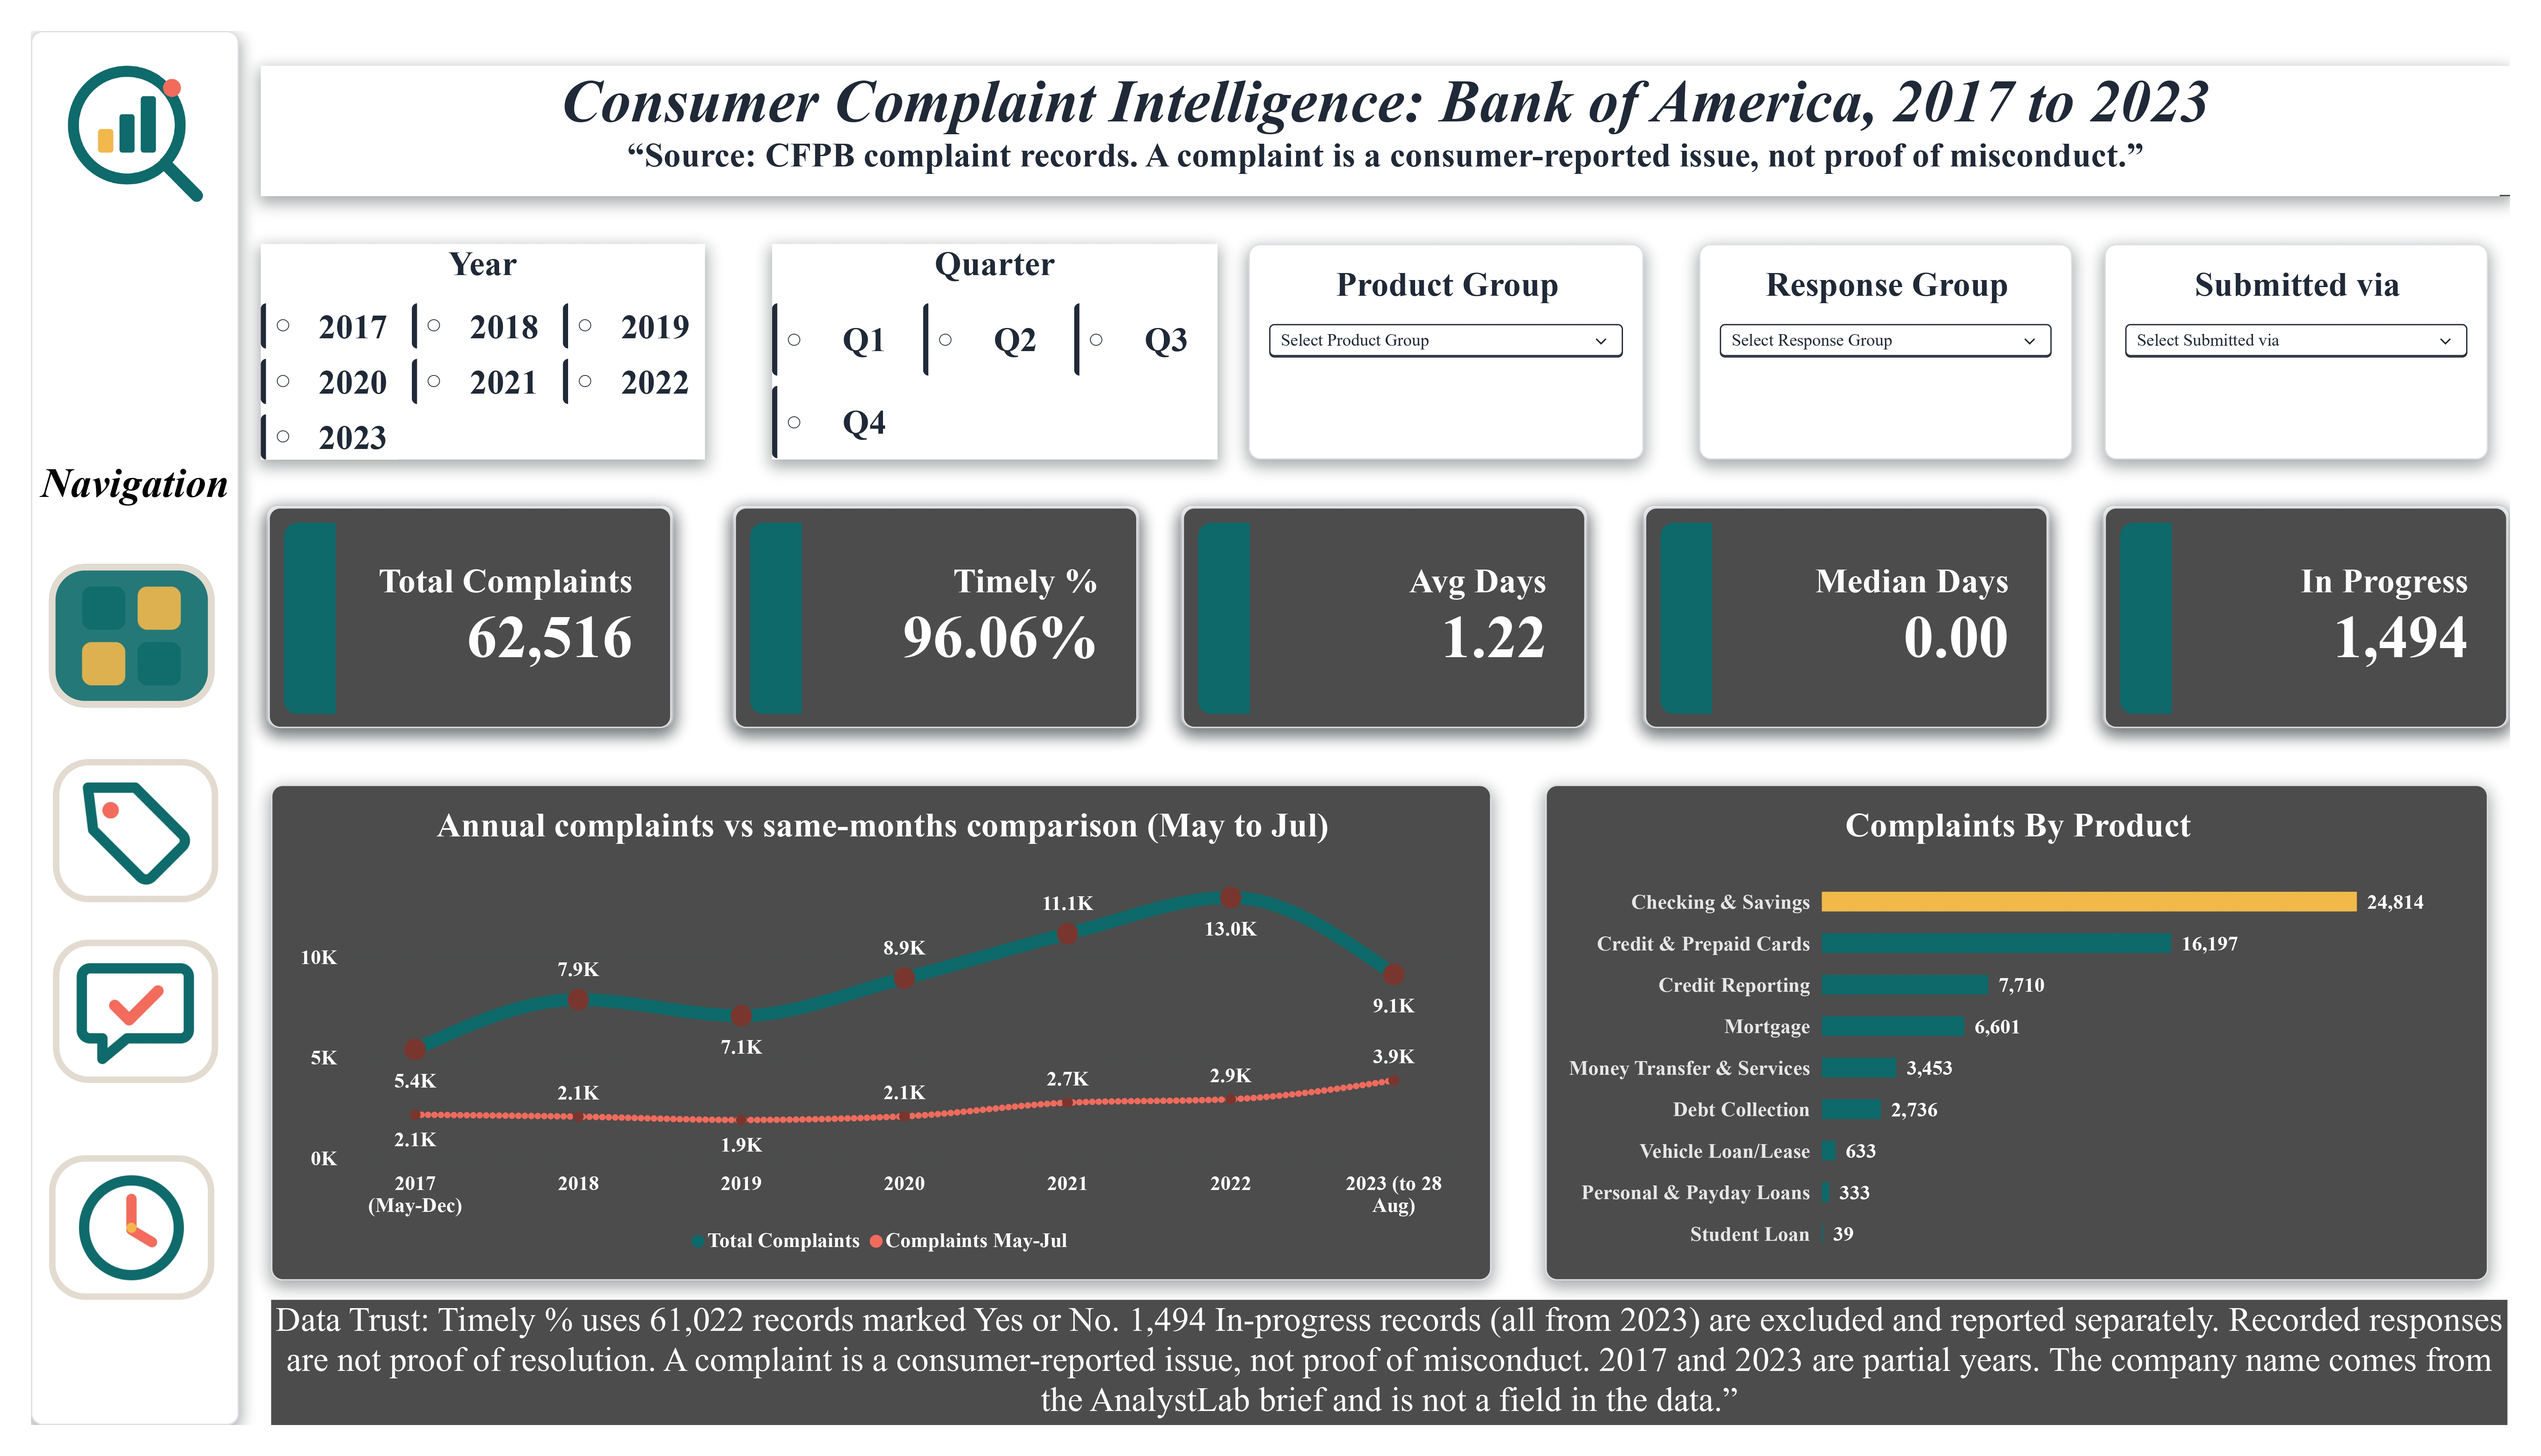

This screenshot's page, from the dashboard's own definition file:
{"tool":"powerbi","page":{"name":"Executive Compaint Overview","canvas":[1920,1080],"ordinal":0},"visuals":[{"type":"group","id":"g1","title":"Group 2","box":[0,0,161,1079.7],"z":0},{"type":"shape","box":[0,0,161,1079.7],"z":0,"group":"g1"},{"type":"shape","box":[181.7,367.5,316.4,173.5],"z":0,"group":"g2"},{"type":"shape","box":[543,367.5,316.4,173.5],"z":0,"group":"g6"},{"type":"shape","box":[889.8,367.5,316.4,173.5],"z":0,"group":"g3"},{"type":"shape","box":[1247.6,367.5,316.4,173.5],"z":0,"group":"g4"},{"type":"shape","box":[1604.1,367.5,316.4,173.5],"z":0,"group":"g5"},{"type":"image","box":[0,0,161,150.7],"z":1000,"group":"g1"},{"type":"textbox","title":"Consumer Complaint Intelligence: Bank of America, 2017 to 2023","box":[177.5,26.8,1742.5,101.2],"z":1000},{"type":"advancedSlicerVisual","fields":{"Values":["DimDate.Year"]},"box":[177.5,165.2,344.8,167.2],"z":2000},{"type":"textbox","box":[0,332.4,161,80.5],"z":2000,"group":"g1"},{"type":"advancedSlicerVisual","fields":{"Values":["DimDate.Quarter"]},"box":[573.9,165.2,344.8,167.2],"z":3000},{"type":"listSlicer","fields":{"Values":["Complaints.Product Group"]},"box":[943.5,165.2,305.5,167.2],"z":4000},{"type":"listSlicer","fields":{"Values":["Complaints.Response Group"]},"box":[1292.4,165.2,289,167.2],"z":5000},{"type":"listSlicer","fields":{"Values":["Complaints.Submitted via"]},"box":[1606.2,165.2,297.3,167.2],"z":6000},{"type":"group","id":"g2","title":"Group 1","box":[181.7,367.5,315.9,173.4],"z":7000},{"type":"group","id":"g3","title":"Group 1","box":[889.8,367.5,315.9,173.4],"z":8000},{"type":"group","id":"g4","title":"Group 1","box":[1247.6,367.5,315.9,173.4],"z":9000},{"type":"group","id":"g5","title":"Group 1","box":[1604.1,367.5,316.4,173.5],"z":10000},{"type":"group","id":"g6","title":"Group 1","box":[543,367.5,315.9,173.4],"z":11000},{"type":"cardVisual","fields":{"Data":["Calculations.Total Complaints"]},"box":[184.1,369.2,312,171.6],"z":11000,"group":"g2"},{"type":"cardVisual","fields":{"Data":["Calculations.Timely %"]},"box":[545.4,369.2,312,171.6],"z":11000,"group":"g6"},{"type":"cardVisual","fields":{"Data":["Calculations.Avg Forwarding Days"]},"box":[892.2,369.2,312,171.6],"z":11000,"group":"g3"},{"type":"cardVisual","fields":{"Data":["Calculations.Median Forwarding Days"]},"box":[1250,369.2,312,171.6],"z":11000,"group":"g4"},{"type":"cardVisual","fields":{"Data":["Calculations.In Progress"]},"box":[1606.5,369.2,312,171.6],"z":11000,"group":"g5"},{"type":"lineChart","title":"Annual complaints vs same-months comparison (May to Jul)","fields":{"Category":["DimDate.Year Label"],"Y":["Calculations.Total Complaints","Calculations.Complaints May-Jul"]},"box":[185.8,584.3,945.5,384],"z":12000},{"type":"clusteredBarChart","title":"Complaints By Product","fields":{"Category":["Complaints.Product (Short)"],"Y":["Calculations.Total Complaints"]},"box":[1172.6,584.3,730.8,384],"z":13000},{"type":"textbox","box":[185.8,982.7,1732.1,97],"z":14000},{"type":"actionButton","box":[14.5,412.9,128,111.5],"z":15000},{"type":"actionButton","box":[16.5,704,128,111.5],"z":16000},{"type":"actionButton","box":[16.5,563.6,128,111.5],"z":17000},{"type":"actionButton","box":[14.5,871.2,128,111.5],"z":18000}]}

Visuals, with their boxes on the page's 1920x1080 design canvas (x1, y1, x2, y2). These are canvas units, not pixel positions in the 2541x1456 screenshot, which may show the page scaled, cropped or inside an application window:
"Group 2" group: x1=0, y1=0, x2=161, y2=1080
shape: x1=0, y1=0, x2=161, y2=1080
shape: x1=182, y1=368, x2=498, y2=541
shape: x1=543, y1=368, x2=859, y2=541
shape: x1=890, y1=368, x2=1206, y2=541
shape: x1=1248, y1=368, x2=1564, y2=541
shape: x1=1604, y1=368, x2=1920, y2=541
image: x1=0, y1=0, x2=161, y2=151
"Consumer Complaint Intelligence: Bank of America, 2017 to 2023" textbox: x1=178, y1=27, x2=1920, y2=128
advancedSlicerVisual - DimDate.Year: x1=178, y1=165, x2=522, y2=332
textbox: x1=0, y1=332, x2=161, y2=413
advancedSlicerVisual - DimDate.Quarter: x1=574, y1=165, x2=919, y2=332
listSlicer - Complaints.Product Group: x1=944, y1=165, x2=1249, y2=332
listSlicer - Complaints.Response Group: x1=1292, y1=165, x2=1581, y2=332
listSlicer - Complaints.Submitted via: x1=1606, y1=165, x2=1904, y2=332
"Group 1" group: x1=182, y1=368, x2=498, y2=541
"Group 1" group: x1=890, y1=368, x2=1206, y2=541
"Group 1" group: x1=1248, y1=368, x2=1564, y2=541
"Group 1" group: x1=1604, y1=368, x2=1920, y2=541
"Group 1" group: x1=543, y1=368, x2=859, y2=541
cardVisual - Calculations.Total Complaints: x1=184, y1=369, x2=496, y2=541
cardVisual - Calculations.Timely %: x1=545, y1=369, x2=857, y2=541
cardVisual - Calculations.Avg Forwarding Days: x1=892, y1=369, x2=1204, y2=541
cardVisual - Calculations.Median Forwarding Days: x1=1250, y1=369, x2=1562, y2=541
cardVisual - Calculations.In Progress: x1=1606, y1=369, x2=1918, y2=541
"Annual complaints vs same-months comparison (May to Jul)" lineChart: x1=186, y1=584, x2=1131, y2=968
"Complaints By Product" clusteredBarChart: x1=1173, y1=584, x2=1903, y2=968
textbox: x1=186, y1=983, x2=1918, y2=1080
actionButton: x1=14, y1=413, x2=142, y2=524
actionButton: x1=16, y1=704, x2=144, y2=816
actionButton: x1=16, y1=564, x2=144, y2=675
actionButton: x1=14, y1=871, x2=142, y2=983
